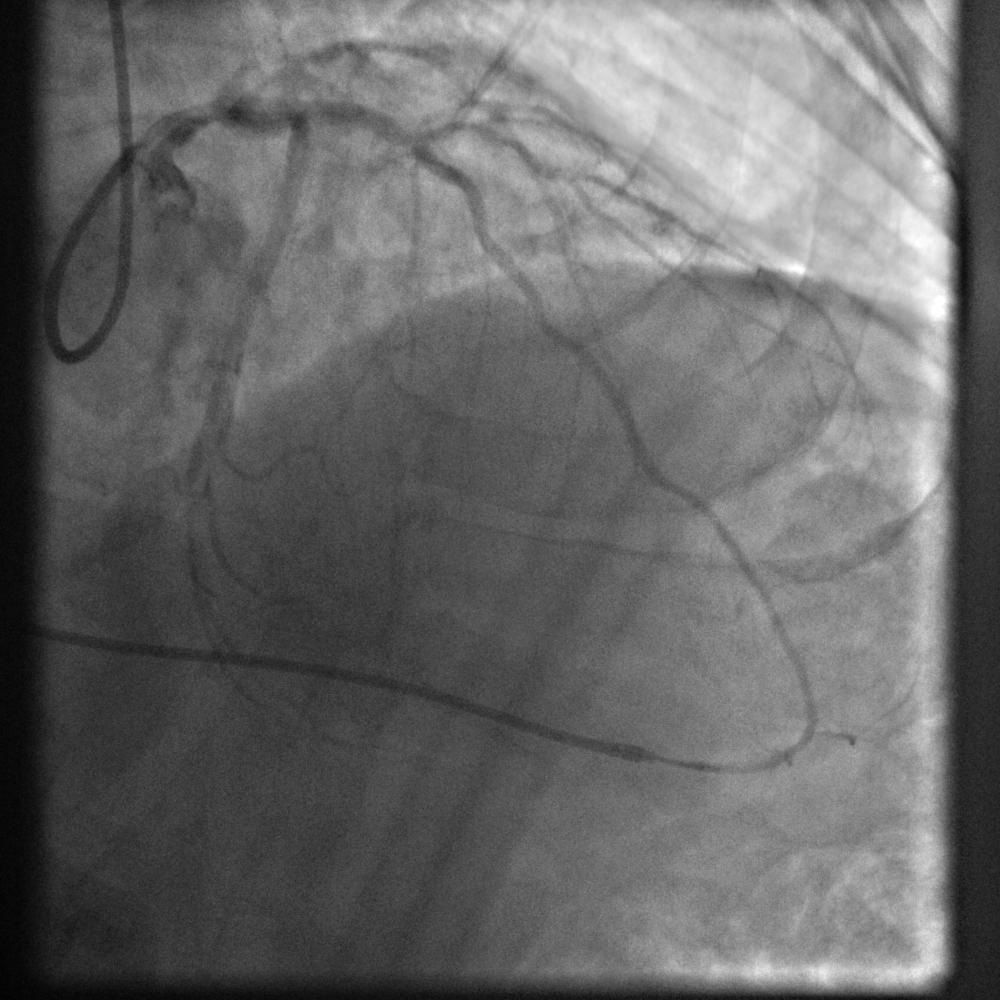Stenosis: (389, 115, 463, 175)
